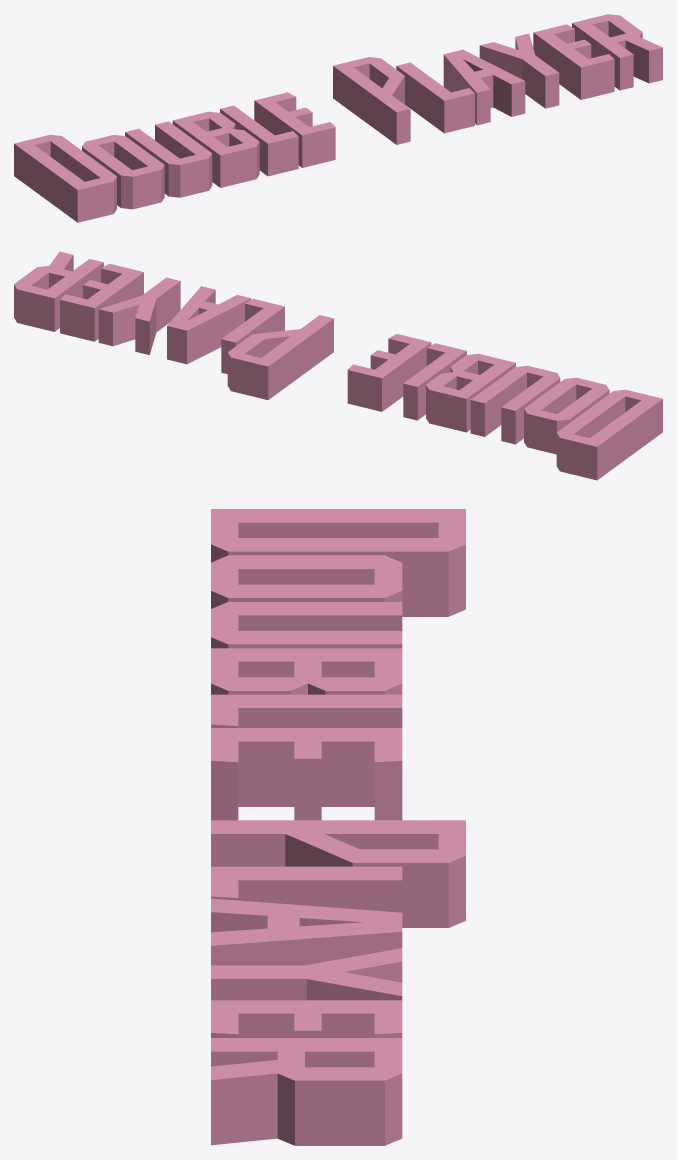
File: double_player.obj
3 views of the same model, one above another, from view 1: azimuth 30°, elevation 25°; view 2: azimuth 150°, elevation 25°; view 3: azimuth 270°, elevation 25° (orthographic). The views are drawn at different scales.
Visible parts, largest first — view 1: Text001; view 2: Text001; view 3: Text001.
Part boxes in pixels (<box>): Text001: <box>14,14,662,222</box>; Text001: <box>14,251,662,480</box>; Text001: <box>211,509,465,1145</box>.
Size of the model in its own units: 113 by 6 by 21.29.
